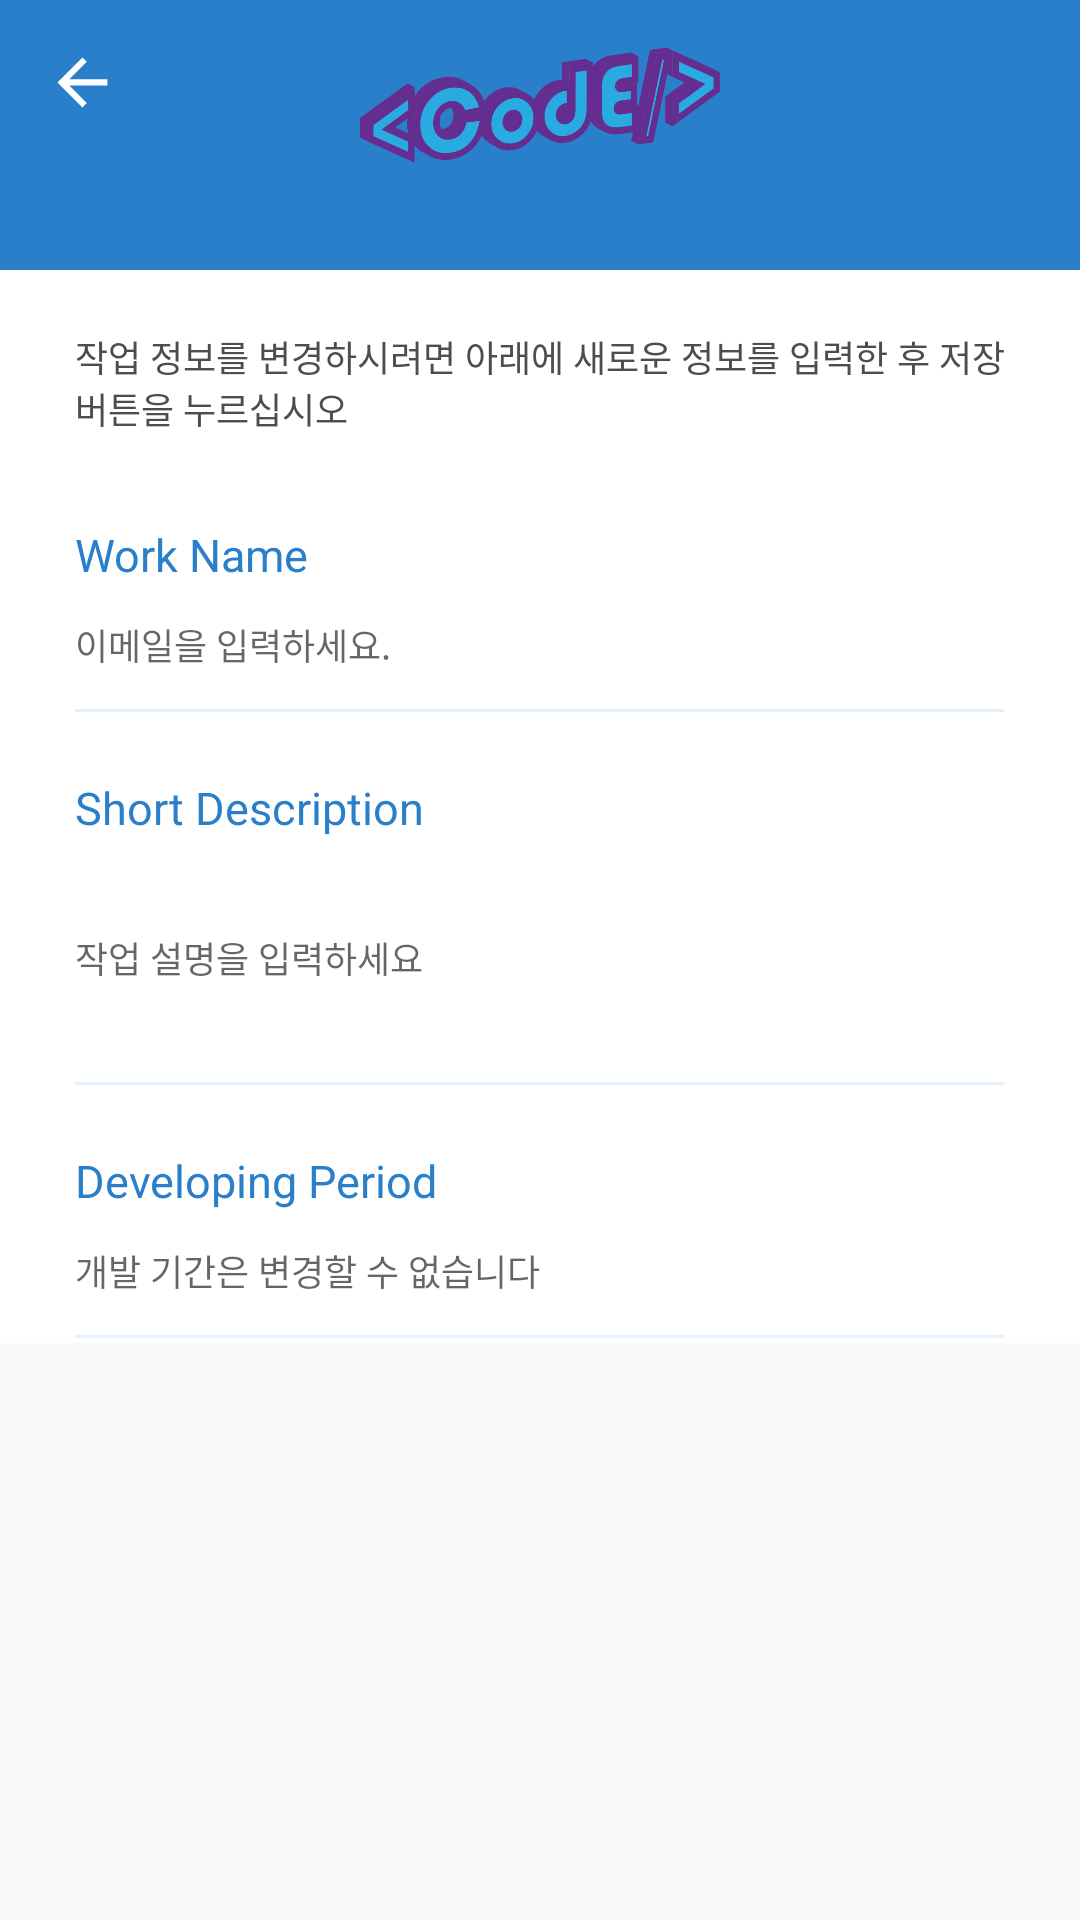

Where icons sit on this 1080 x 1920 app screen, as box(x1, y1, x2, y2):
back: box(57, 57, 108, 108)
